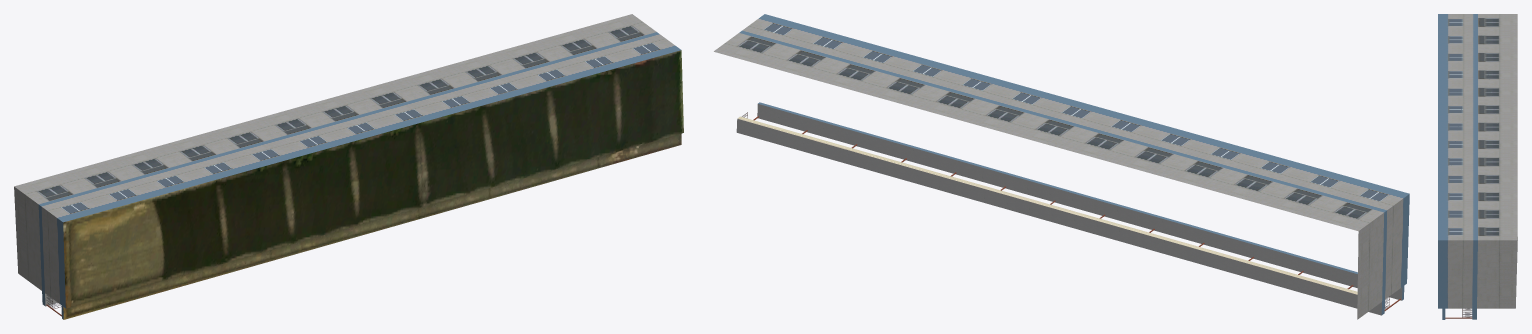
The picture shows the model from 3 angles, left to right: view 1: azimuth 30°, elevation 25°; view 2: azimuth 150°, elevation 25°; view 3: azimuth 270°, elevation 25°; orthographic projection. The views are drawn at different scales.
Visible parts, largest first — view 1: Group_MatrixTransform_i96168_Geometry_13, Group_MatrixTransform_i96168_Geometry_0, Group_MatrixTransform_i96168_Geometry_1, Group_MatrixTransform_i96168_Geometry_12, Group_MatrixTransform_i96168_Geometry_7, Group_MatrixTransform_i96168_Geometry_6; view 2: Group_MatrixTransform_i96168_Geometry_11, Group_MatrixTransform_i96168_Geometry_1, Group_MatrixTransform_i96168_Geometry_0, Group_MatrixTransform_i96168_Geometry_14, Group_MatrixTransform_i96168_Geometry_6, Group_MatrixTransform_i96168_Geometry_7, Group_MatrixTransform_i96168_Geometry_9; view 3: Group_MatrixTransform_i96168_Geometry_0, Group_MatrixTransform_i96168_Geometry_1, Group_MatrixTransform_i96168_Geometry_6, Group_MatrixTransform_i96168_Geometry_7, Group_MatrixTransform_i96168_Geometry_9, Group_MatrixTransform_i96168_Geometry_15.
Part boxes in pixels (x1,y1,x2,y2): Group_MatrixTransform_i96168_Geometry_13: [63, 50, 683, 308]; Group_MatrixTransform_i96168_Geometry_0: [14, 14, 656, 204]; Group_MatrixTransform_i96168_Geometry_1: [39, 32, 680, 222]; Group_MatrixTransform_i96168_Geometry_12: [63, 133, 681, 319]; Group_MatrixTransform_i96168_Geometry_7: [38, 205, 65, 308]; Group_MatrixTransform_i96168_Geometry_6: [14, 186, 41, 290]; Group_MatrixTransform_i96168_Geometry_11: [736, 104, 1402, 315]; Group_MatrixTransform_i96168_Geometry_1: [739, 14, 1409, 212]; Group_MatrixTransform_i96168_Geometry_0: [714, 33, 1383, 231]; Group_MatrixTransform_i96168_Geometry_14: [737, 116, 1357, 294]; Group_MatrixTransform_i96168_Geometry_6: [1357, 213, 1384, 319]; Group_MatrixTransform_i96168_Geometry_7: [1382, 194, 1409, 301]; Group_MatrixTransform_i96168_Geometry_9: [758, 102, 1404, 314]; Group_MatrixTransform_i96168_Geometry_0: [1478, 14, 1517, 240]; Group_MatrixTransform_i96168_Geometry_1: [1438, 14, 1477, 240]; Group_MatrixTransform_i96168_Geometry_6: [1477, 240, 1517, 308]; Group_MatrixTransform_i96168_Geometry_7: [1438, 240, 1477, 308]; Group_MatrixTransform_i96168_Geometry_9: [1442, 308, 1476, 319]; Group_MatrixTransform_i96168_Geometry_15: [1462, 308, 1472, 317].
Bounding box in the file's own units: 57.63 × 10.78 × 7.93.
16 materials, 16 textured.
